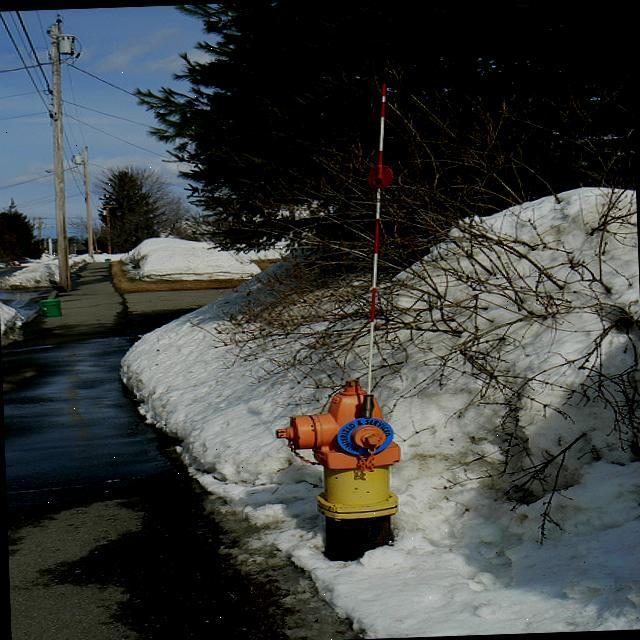fire_hydrant: (274, 382, 402, 514)
